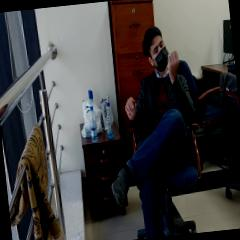not-gloved: (166, 49, 181, 81), (123, 96, 136, 121)
